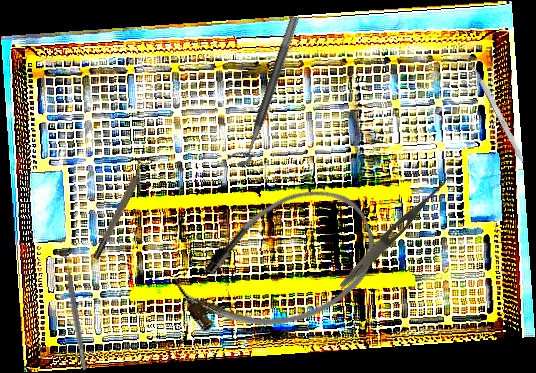Cannula: (161, 169, 394, 362)
Dressing Forceps: (336, 171, 454, 292)
Fixation Ring: (226, 11, 300, 170), (87, 154, 153, 261), (53, 246, 95, 373)
Scalpel Handle: (471, 64, 529, 167)
